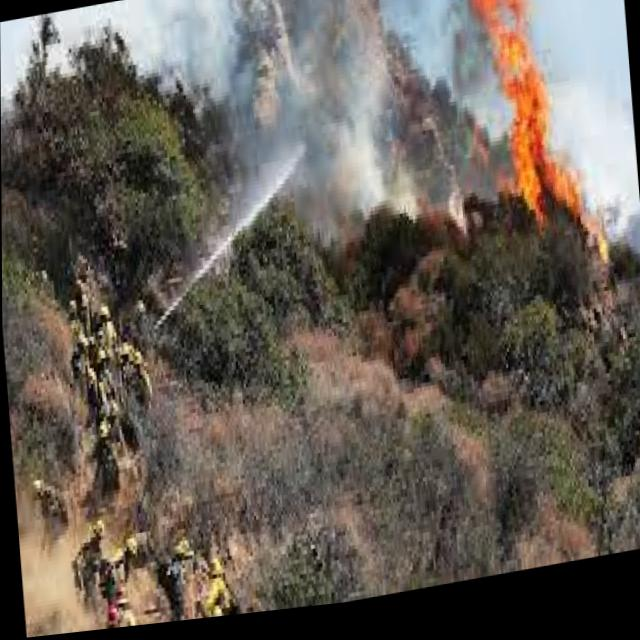Fire: (460, 0, 591, 275)
